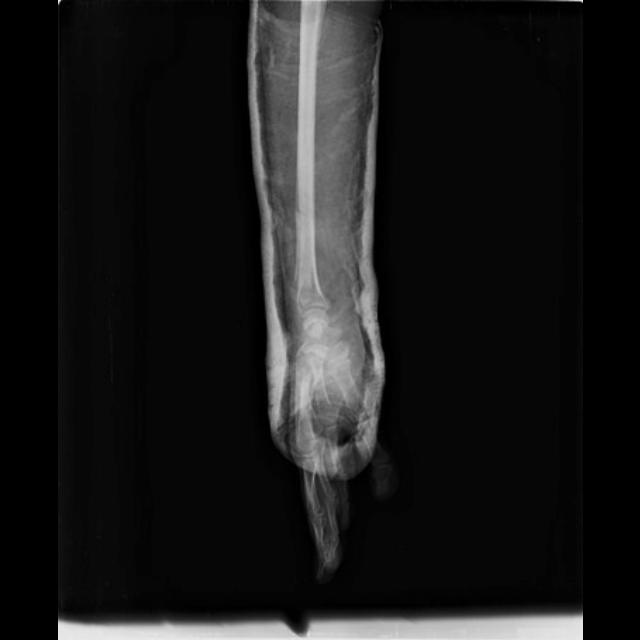fractured: (292, 196, 315, 231)
